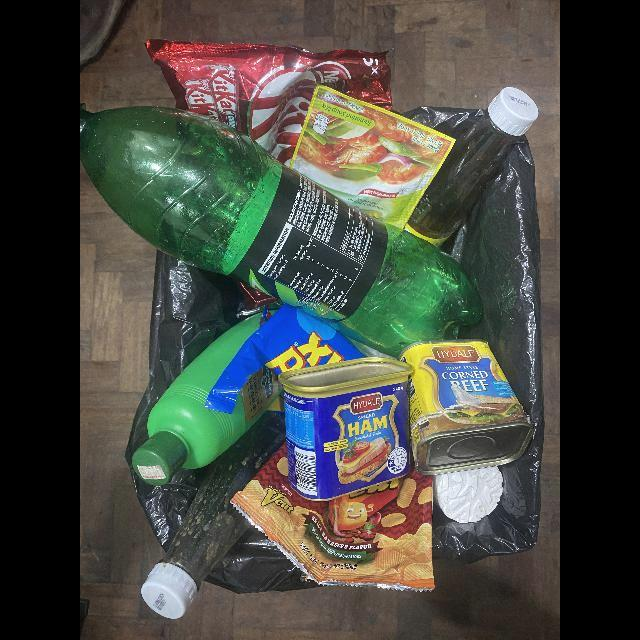aluminum: (278, 357, 412, 502), (397, 340, 533, 476)
food_wrapper: (145, 39, 393, 168), (230, 445, 435, 591), (290, 85, 456, 229), (205, 303, 367, 415)
glass_bottle: (140, 410, 286, 620), (404, 87, 539, 248)
plastic_bottle: (80, 106, 484, 359), (131, 313, 282, 487), (433, 466, 503, 524)
